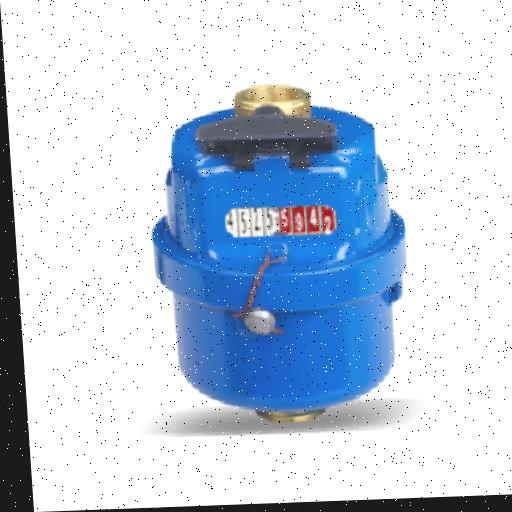2: (321, 205, 339, 234), (250, 207, 264, 237)
4: (224, 209, 239, 237), (306, 206, 320, 234)
5: (264, 207, 279, 236), (278, 207, 292, 235), (237, 208, 251, 235)
9: (293, 206, 306, 235)
border_water_meter_number: (224, 205, 339, 238)
